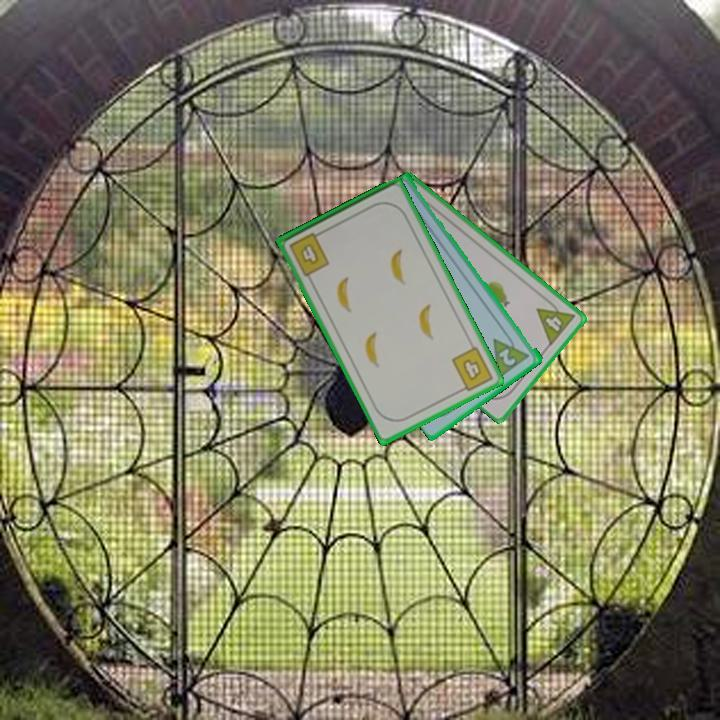2p: (489, 328, 533, 381)
4b: (448, 343, 496, 396), (285, 228, 333, 279)
4p: (533, 294, 578, 349)
